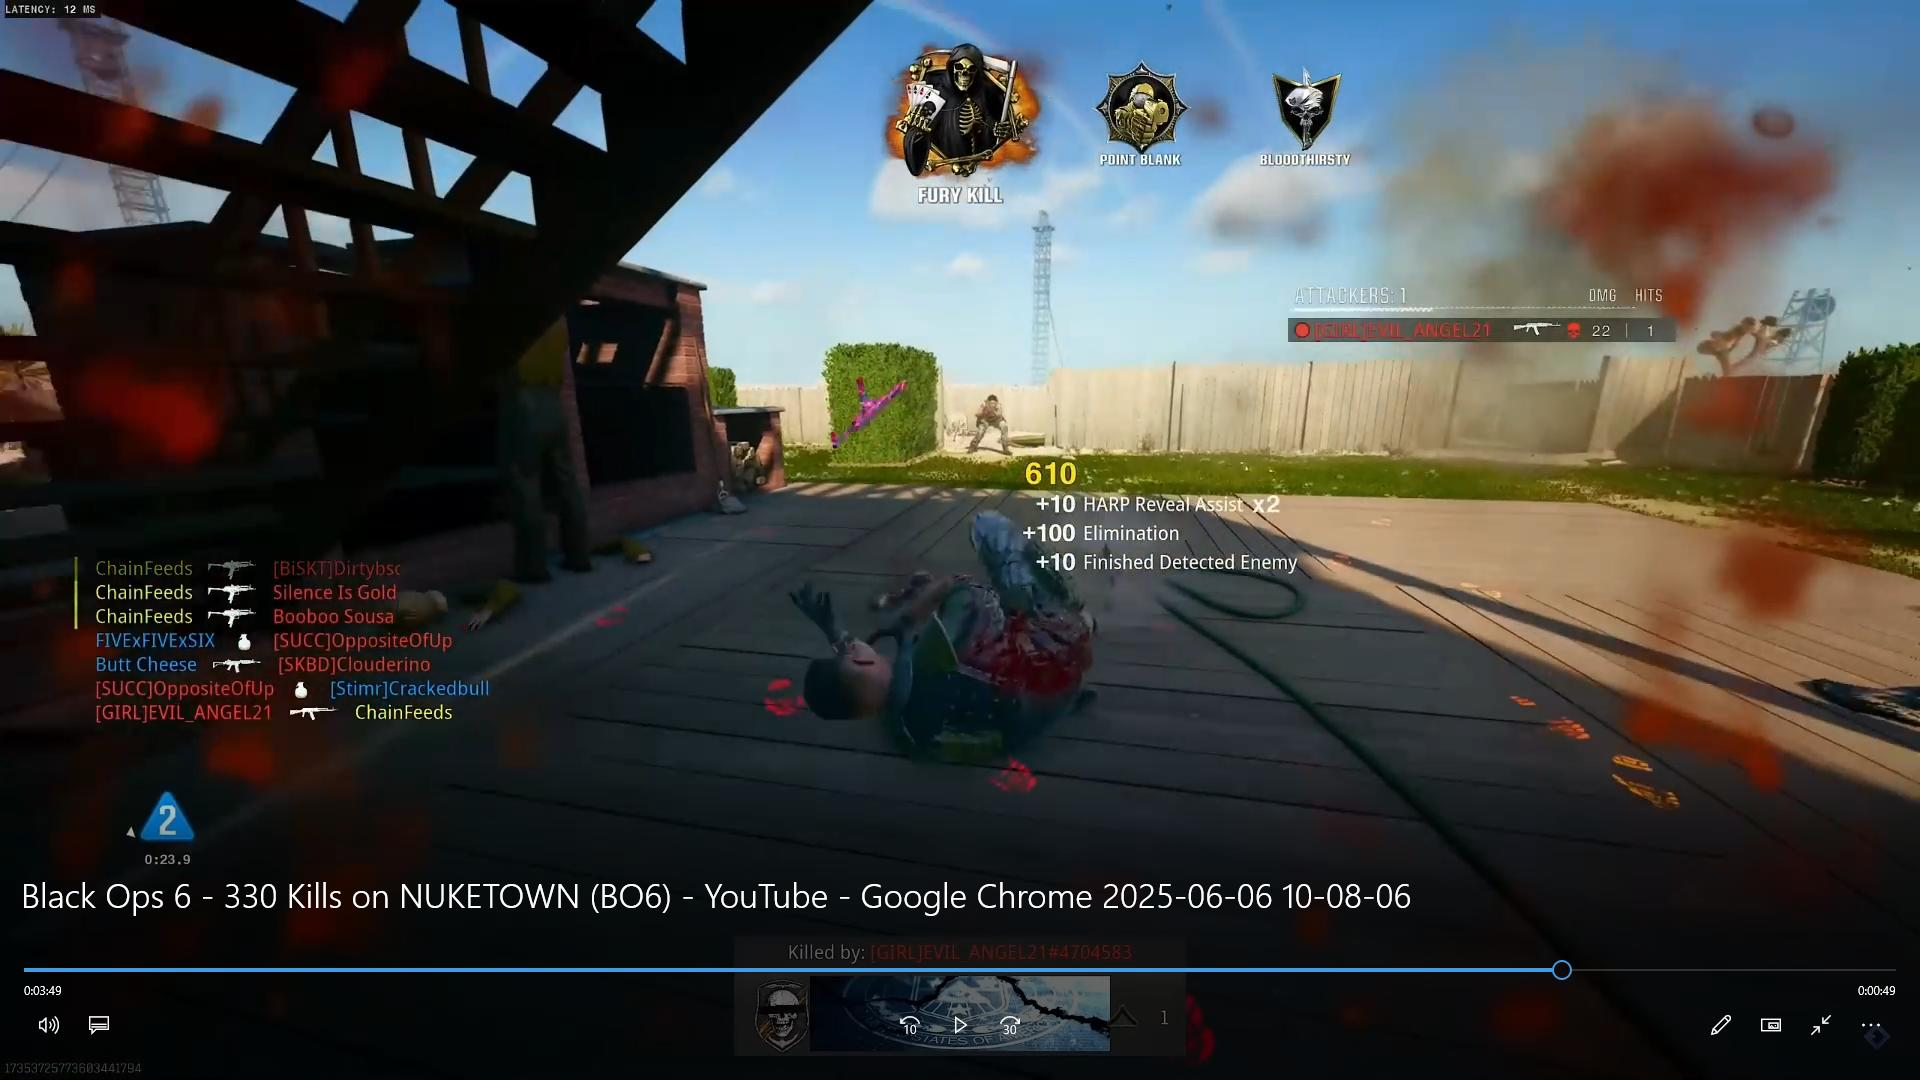Enemy: (967, 382, 1009, 460)
